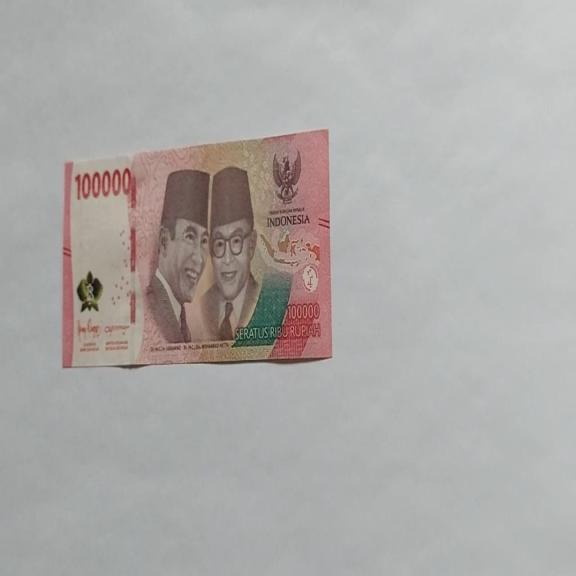Kertas: (62, 127, 332, 369)
